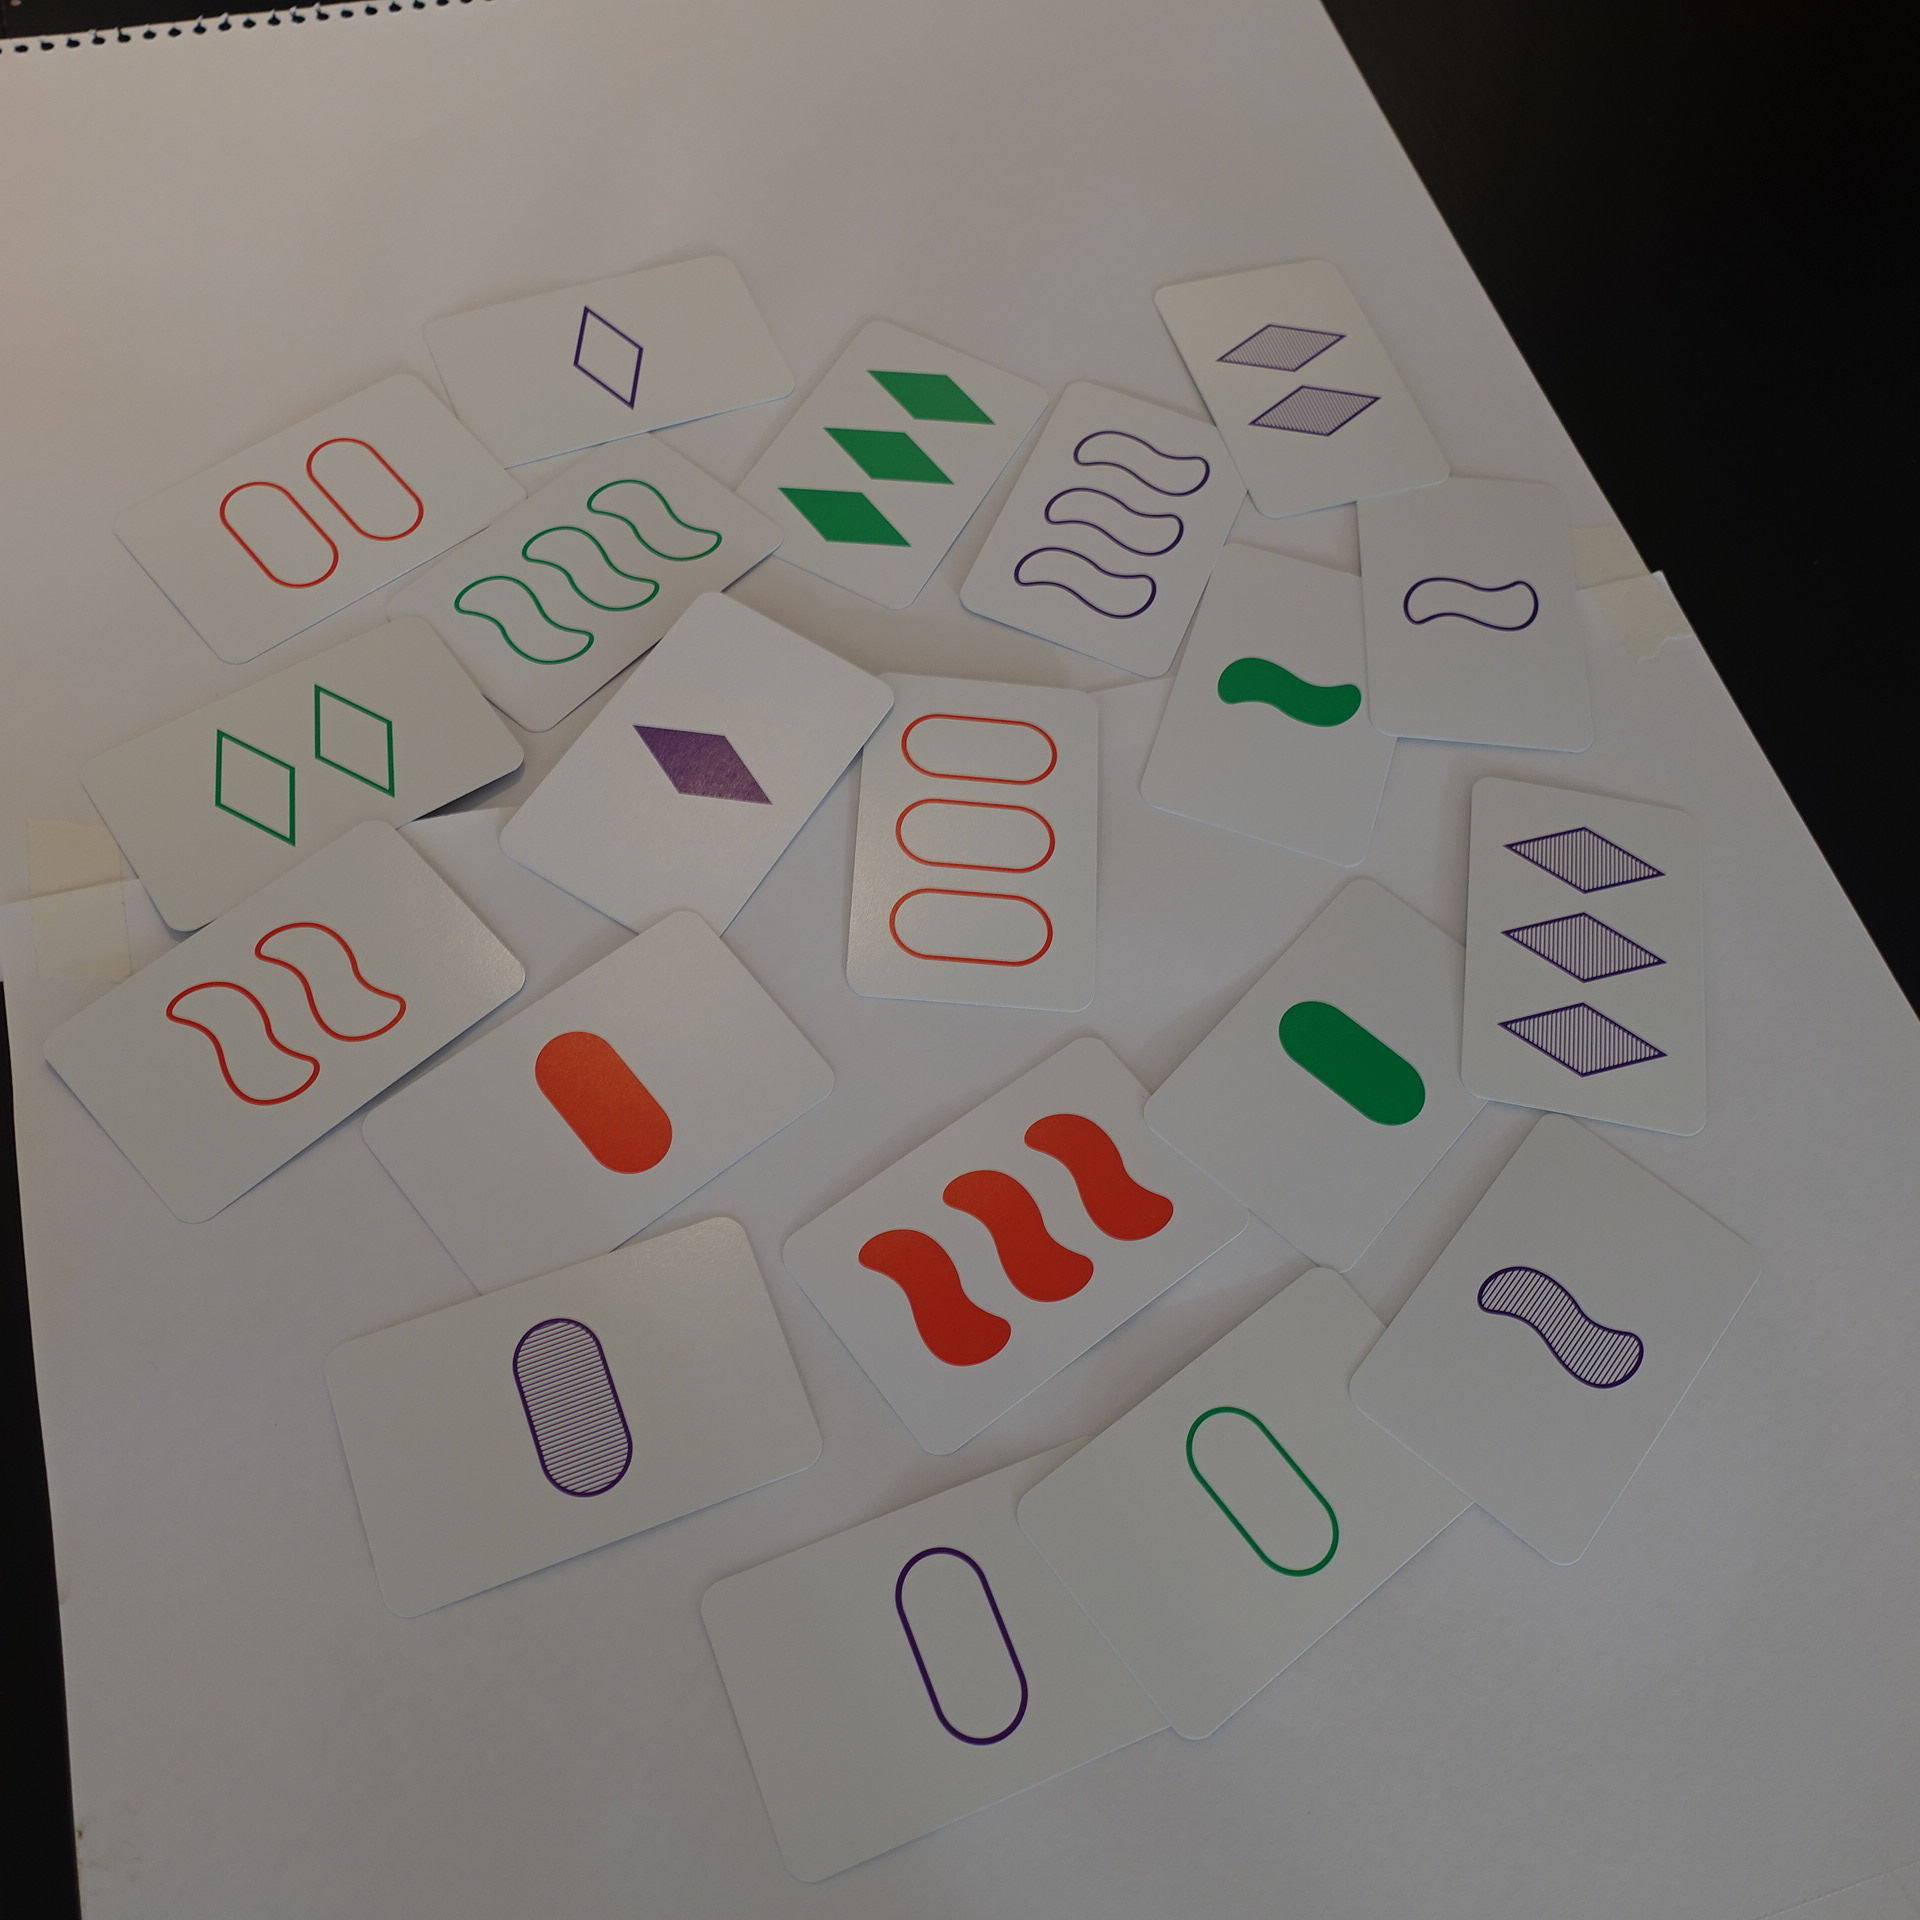c-1-f-d-p: (512, 593, 891, 948)
c-1-f-o-g: (1138, 874, 1545, 1257)
c-1-f-o-r: (369, 911, 839, 1306)
c-1-f-s-g: (1136, 536, 1431, 867)
c-1-h-o-p: (322, 1218, 830, 1616)
c-1-h-s-p: (1342, 1116, 1769, 1561)
c-1-u-d-p: (413, 251, 798, 471)
c-1-u-o-g: (1011, 1261, 1503, 1742)
c-1-u-o-p: (698, 1428, 1269, 1880)
c-1-u-s-p: (1350, 461, 1604, 753)
c-2-h-d-p: (1148, 257, 1452, 513)
c-2-u-d-g: (76, 615, 527, 930)
c-2-u-o-r: (120, 373, 526, 663)
c-2-u-s-r: (47, 826, 522, 1225)
c-3-f-d-g: (716, 318, 1051, 608)
c-3-f-s-r: (784, 1039, 1252, 1463)
c-3-h-d-p: (1451, 772, 1725, 1138)
c-3-u-o-r: (842, 666, 1108, 1011)
c-3-u-s-g: (396, 434, 791, 731)
c-3-u-s-p: (964, 375, 1276, 679)
